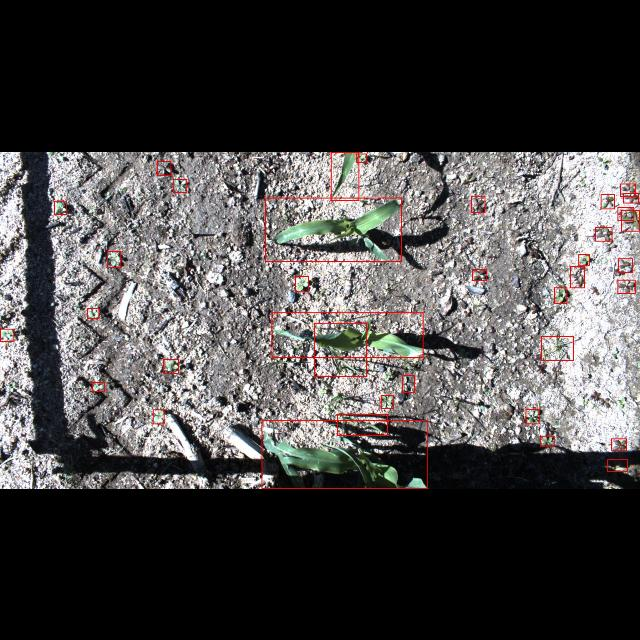crop: (262, 420, 426, 488), (265, 197, 401, 261), (272, 312, 422, 358), (331, 151, 359, 199)
weed: (314, 322, 366, 376), (337, 414, 387, 434), (541, 336, 573, 360), (621, 210, 639, 230), (570, 266, 584, 286), (471, 194, 485, 212), (607, 459, 627, 471), (596, 226, 612, 240), (402, 374, 414, 392), (618, 207, 634, 220), (620, 182, 636, 195), (0, 328, 14, 342), (164, 359, 178, 373), (173, 178, 187, 192), (157, 160, 171, 174), (618, 258, 632, 272), (600, 194, 614, 208), (108, 250, 120, 266), (296, 275, 308, 291), (526, 408, 538, 424), (618, 280, 634, 292), (54, 200, 66, 214), (152, 409, 164, 423), (555, 288, 567, 302), (473, 268, 487, 280), (381, 394, 393, 408), (612, 438, 626, 449), (540, 436, 554, 446), (624, 192, 638, 202), (92, 382, 105, 391), (88, 308, 99, 318), (356, 152, 366, 162), (579, 254, 589, 264)
